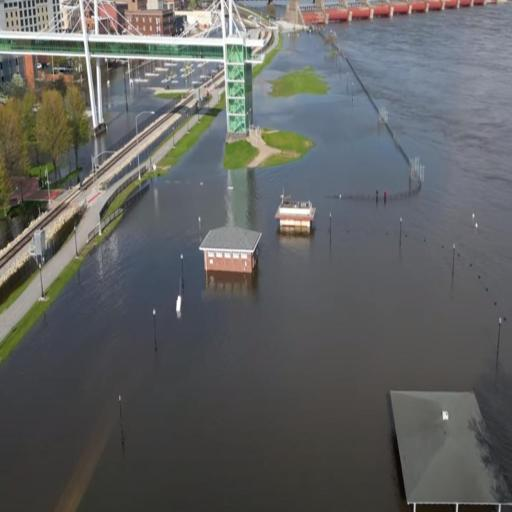flood: (0, 3, 512, 510), (112, 31, 407, 292), (91, 64, 168, 152), (188, 63, 217, 86), (135, 59, 155, 77), (79, 146, 93, 168), (168, 73, 185, 87)
house: (373, 381, 504, 505), (202, 222, 265, 284), (3, 1, 62, 33), (277, 197, 317, 240), (124, 7, 176, 36)
